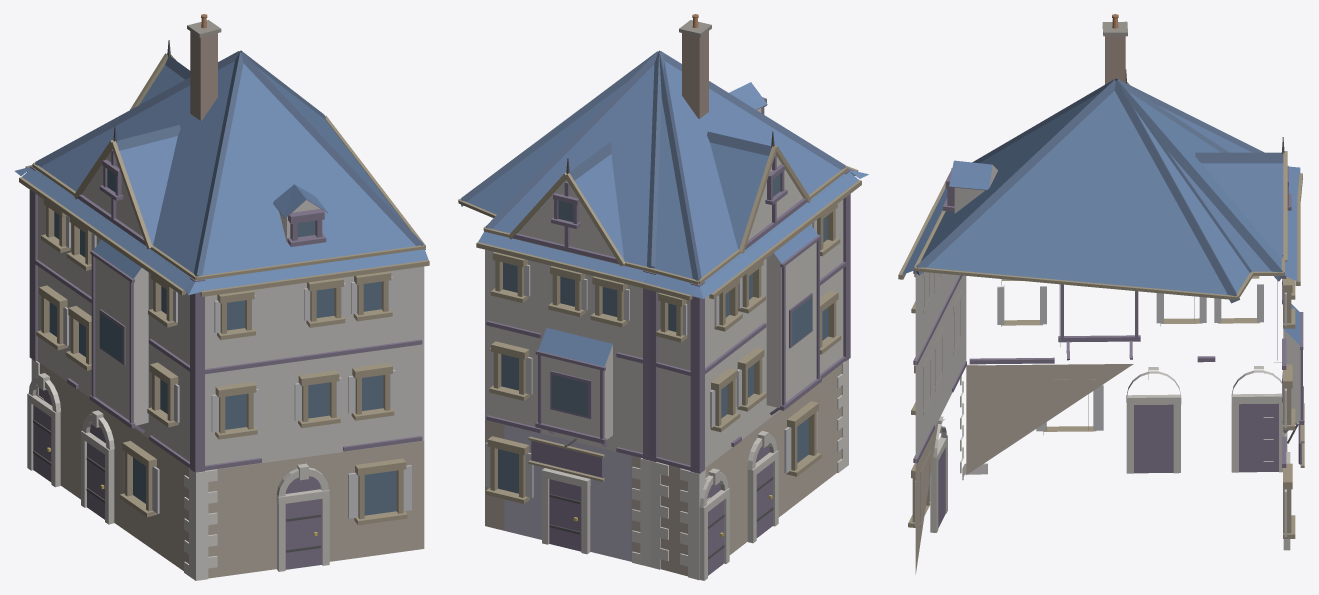
The picture shows the model from 3 angles, left to right: view 1: azimuth 30°, elevation 25°; view 2: azimuth 150°, elevation 25°; view 3: azimuth 270°, elevation 25°; orthographic projection. The views are drawn at different scales.
Visible parts, largest first — view 1: B024_visible; view 2: B024_visible; view 3: B024_visible.
Part boxes in pixels (x1,y1,x2,y2): B024_visible: [15, 14, 429, 580]; B024_visible: [458, 14, 868, 580]; B024_visible: [898, 14, 1304, 574].
Bounding box in the file's own units: 10.08 × 16.66 × 12.26.
